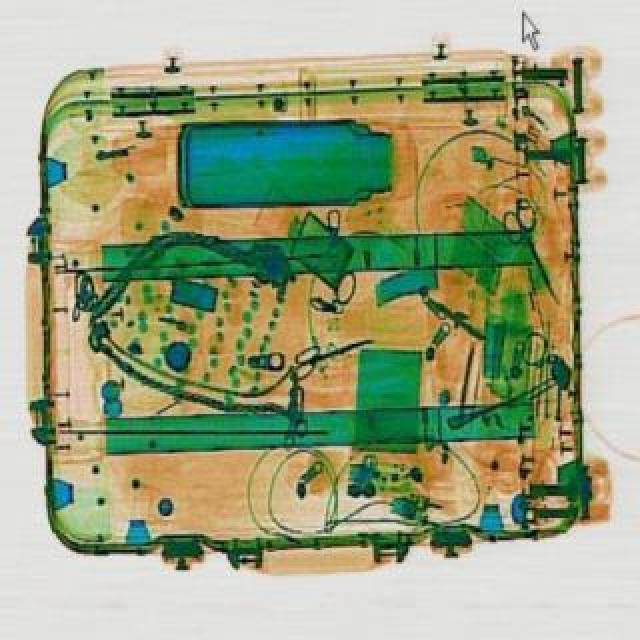pliers: (490, 192, 572, 306), (284, 326, 378, 378)
